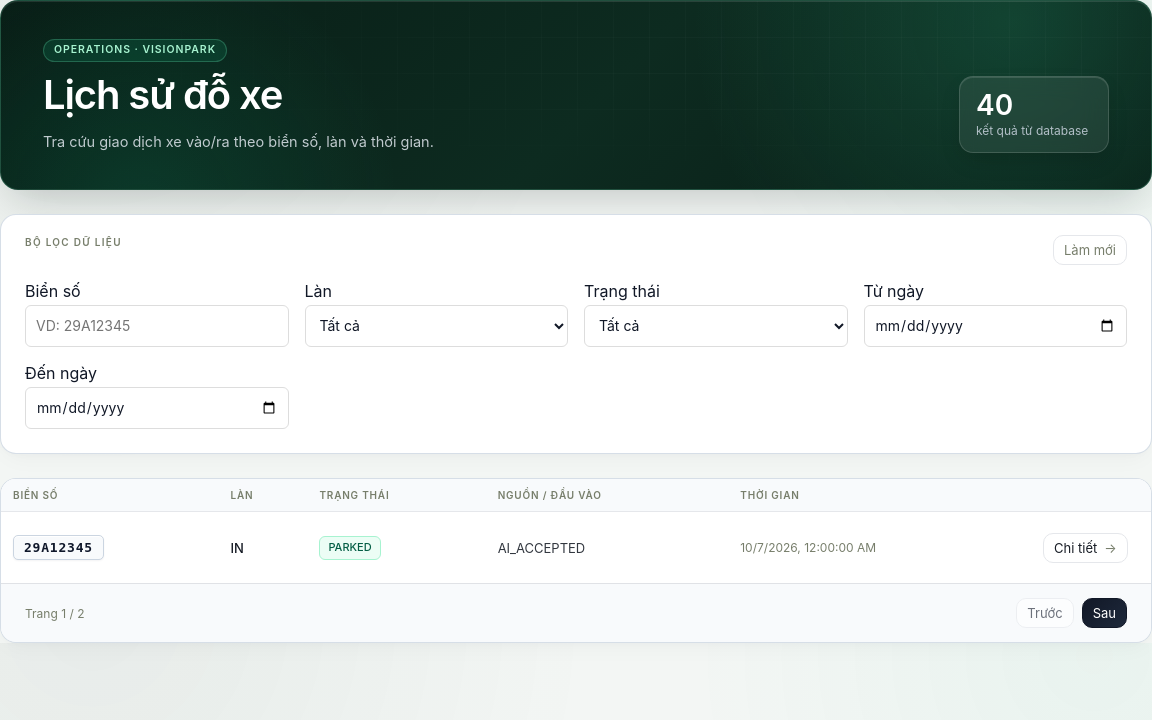
Test: Parking server history › navigates to page 2 with filters preserved
The width and height of the screenshot is (1152, 720).
Expected: the text "29A12345" is shown, x1=13 y1=535 x2=104 y2=560
What coordinates should you click on to do the following:
click the button "Sau"
I would click on:
 (1104, 613)
Its box is x1=1082 y1=598 x2=1127 y2=628.
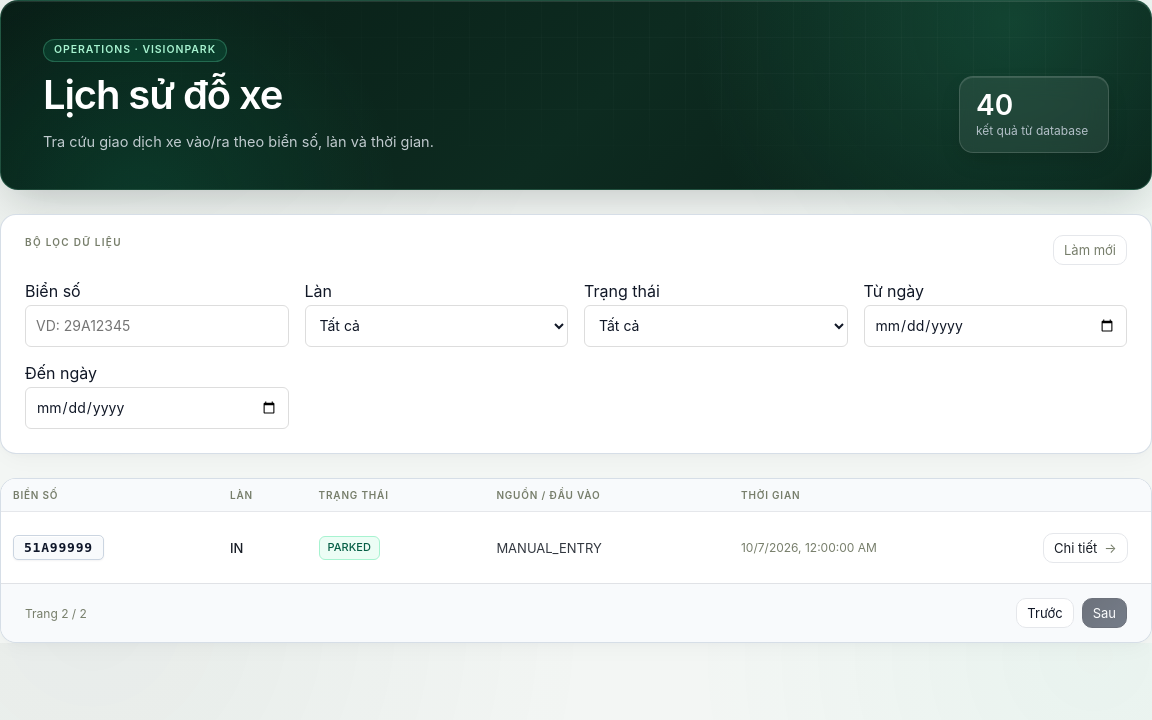
Now the text "51A99999" is shown, box x1=13 y1=535 x2=104 y2=560
